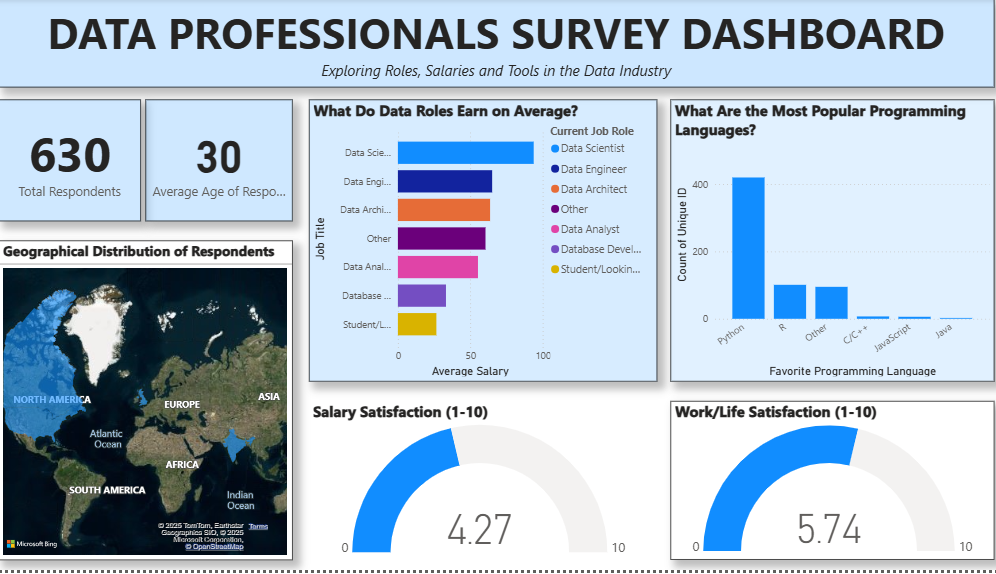

This screenshot's page, from the dashboard's own definition file:
{"tool":"powerbi","page":{"name":"Page 1","canvas":[1280,720],"ordinal":0},"visuals":[{"type":"textbox","box":[10,0,280,280],"z":0},{"type":"textbox","box":[9.4,0,1254.8,111.5],"z":1},{"type":"card","fields":{"Values":["Count(Data Professional Survey.Unique ID)"]},"box":[9.4,126.6,179.5,153.1],"z":2},{"type":"card","fields":{"Values":["Avg(Data Professional Survey.Q10 - Current Age)"]},"box":[194.6,126.6,185.2,153.1],"z":3},{"type":"barChart","title":"What Do Data Roles Earn on Average?","fields":{"Category":["Data Professional Survey.Q1 - Which Title Best Fits your Current Role?.1"],"Y":["Avg(Data Professional Survey.Average Salary)"],"Series":["Data Professional Survey.Q1 - Which Title Best Fits your Current Role?.1"]},"box":[400.6,126.6,438.4,355.3],"z":4},{"type":"clusteredColumnChart","title":"What Are the Most Popular Programming Languages?","fields":{"Category":["Data Professional Survey.Q5 - Favorite Programming Language.1"],"Y":["CountNonNull(Data Professional Survey.Unique ID)"]},"box":[856.1,126.6,408.2,355.3],"z":5},{"type":"filledMap","title":"Geographical Distribution of Respondents","fields":{"Category":["Data Professional Survey.Q11 - Which Country do you live in?.1"]},"box":[9.4,304.3,370.4,402.5],"z":6},{"type":"gauge","title":"Salary Satisfaction (1-10)","fields":{"Y":["Avg(Data Professional Survey.Q6 - How Happy are you in your Current Position with the following? (Salary))"],"MinValue":["Min(Data Professional Survey.Q6 - How Happy are you in your Current Position with the following? (Salary))"],"MaxValue":["Max(Data Professional Survey.Q6 - How Happy are you in your Current Position with the following? (Salary))"]},"box":[400.6,506.5,438.4,200.3],"z":7},{"type":"gauge","title":"Work/Life Satisfaction (1-10)","fields":{"Y":["Avg(Data Professional Survey.Q6 - How Happy are you in your Current Position with the following? (Work/Life Balance))"],"MinValue":["Min(Data Professional Survey.Q6 - How Happy are you in your Current Position with the following? (Work/Life Balance))"],"MaxValue":["Max(Data Professional Survey.Q6 - How Happy are you in your Current Position with the following? (Work/Life Balance))1"]},"box":[856,506,408,200],"z":8}]}

Visuals, with their boxes in screenshot pixels (x1, y1, x2, y2), scaled from the page's 1280x720 canvas onto the 996x574 screenshot:
textbox: {"left": 8, "top": 0, "right": 226, "bottom": 223}
textbox: {"left": 7, "top": 0, "right": 984, "bottom": 89}
card - Count(Data Professional Survey.Unique ID): {"left": 7, "top": 101, "right": 147, "bottom": 223}
card - Avg(Data Professional Survey.Q10 - Current Age): {"left": 151, "top": 101, "right": 296, "bottom": 223}
"What Do Data Roles Earn on Average?" barChart: {"left": 312, "top": 101, "right": 653, "bottom": 384}
"What Are the Most Popular Programming Languages?" clusteredColumnChart: {"left": 666, "top": 101, "right": 984, "bottom": 384}
"Geographical Distribution of Respondents" filledMap: {"left": 7, "top": 243, "right": 296, "bottom": 563}
"Salary Satisfaction (1-10)" gauge: {"left": 312, "top": 404, "right": 653, "bottom": 563}
"Work/Life Satisfaction (1-10)" gauge: {"left": 666, "top": 403, "right": 984, "bottom": 563}
